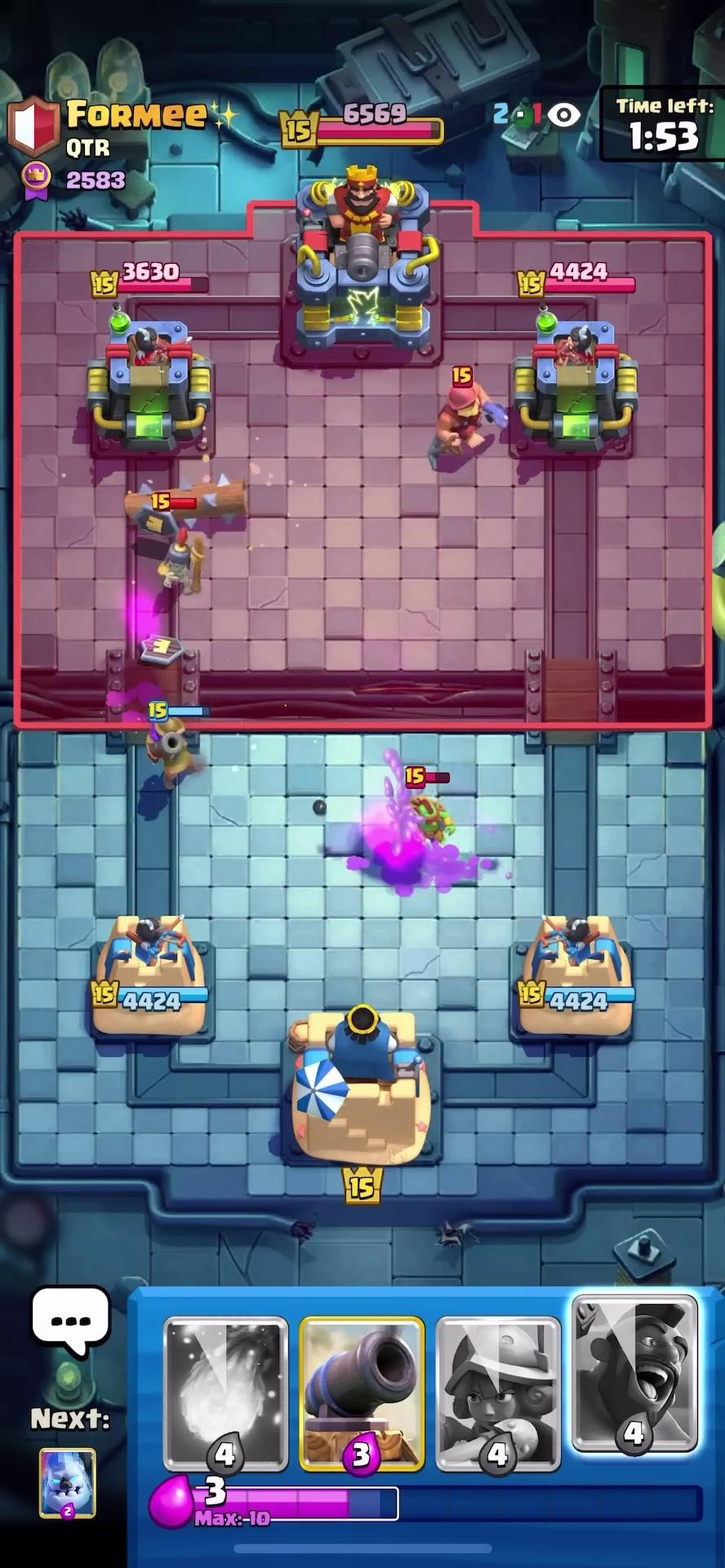log: (112, 476, 257, 539)
musketeer: (141, 700, 206, 774)
